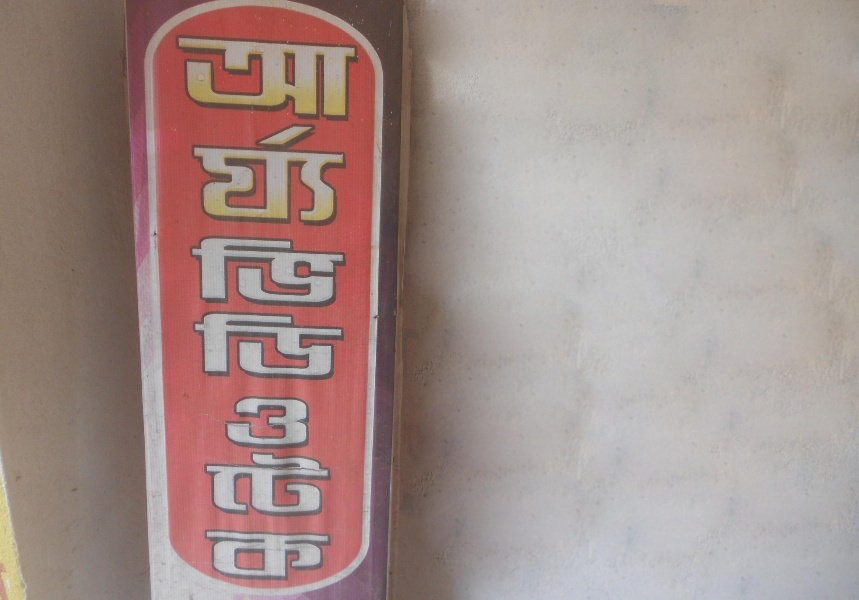text: (177, 32, 192, 581), (193, 32, 208, 581), (209, 32, 224, 581), (225, 32, 240, 581), (241, 32, 256, 581), (257, 32, 272, 581), (273, 32, 288, 581), (289, 32, 304, 581), (305, 32, 320, 581), (321, 32, 336, 581), (337, 32, 352, 581), (353, 32, 361, 581), (174, 32, 176, 581)
